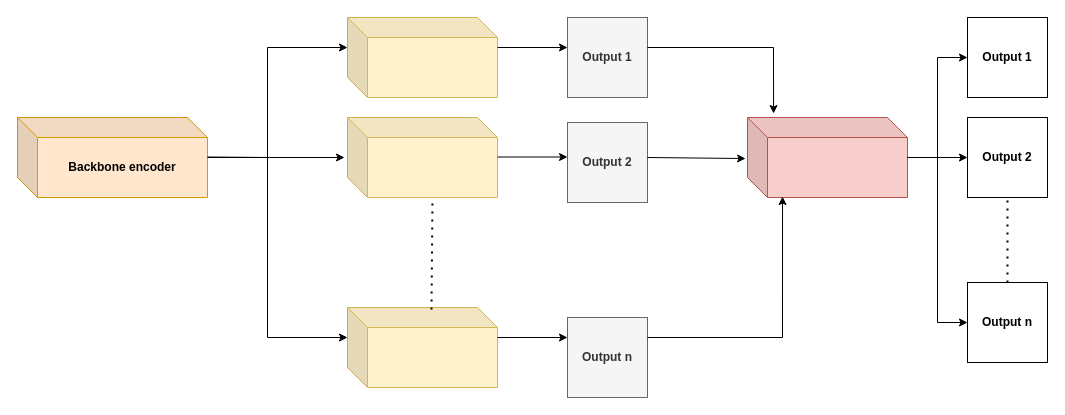
Image size: 1065x415. Some labels were removed from this diagram. The centre of each missing label's shape, as x and y in pixels:
"Decoder 1" goes at pixel 422 57.
"Decoder 2" goes at pixel 422 157.
"Decoder n" goes at pixel 422 347.
"Post-processor" goes at pixel 827 157.
